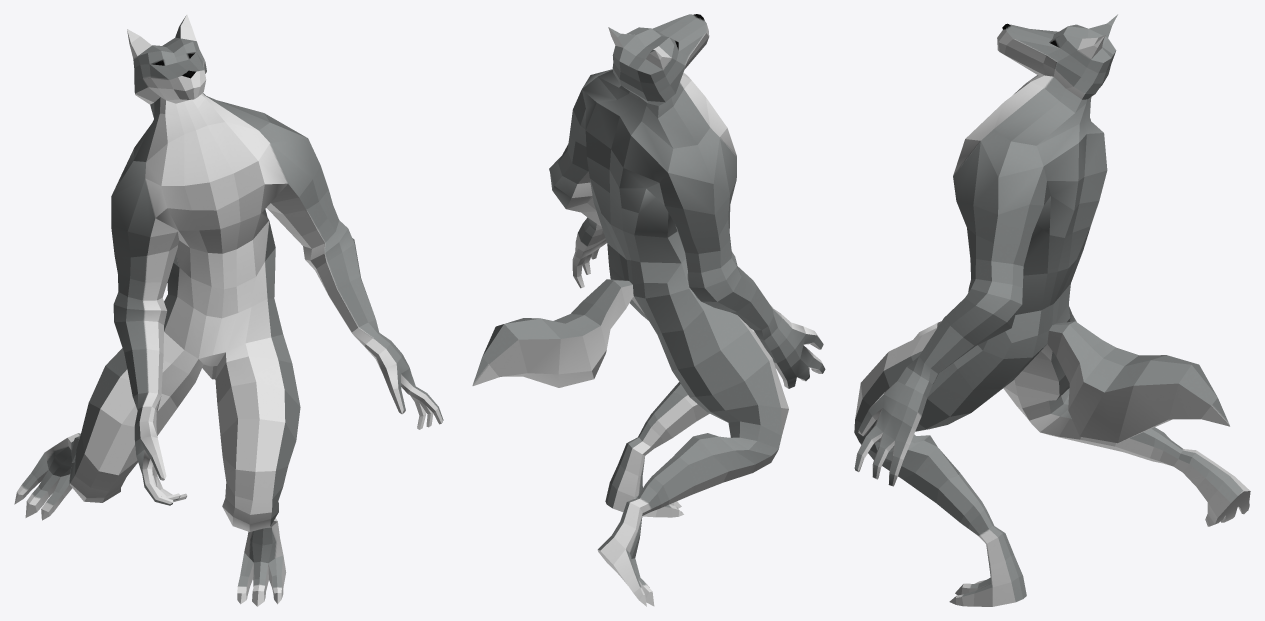
File: WolfDead(17).obj
3 renders of one model, left to right at view 1: azimuth 30°, elevation 25°; view 2: azimuth 150°, elevation 25°; view 3: azimuth 270°, elevation 25°, orthographic. The views are drawn at different scales.
Visible parts, largest first — view 1: Box001; view 2: Box001; view 3: Box001.
Part boxes in pixels (<box>): Box001: <box>14,14,443,606</box>; Box001: <box>472,14,825,606</box>; Box001: <box>854,14,1250,606</box>.
Bounding box in the file's own units: 75.56 × 138 × 88.5.
